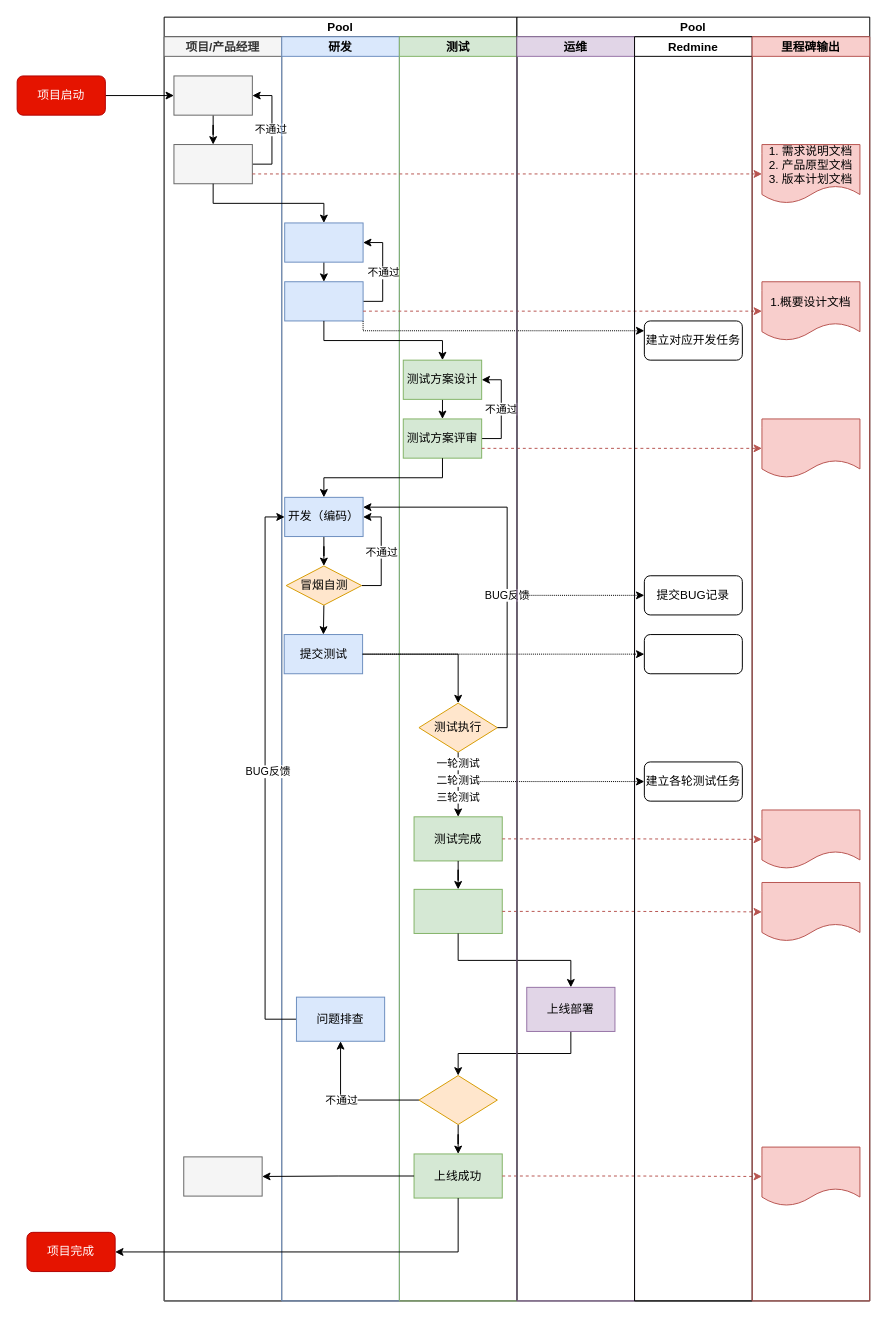
Image size: 887x1318. Some labels were removed from this diagram. Each missing label, with the centre of its shape:
"1. 发布成功邮件 2. 代码tag标记 3. 版本计划文档" goes at (x=810, y=1176).
"1.上线确认单" goes at (x=810, y=911).
"1.测试报告文档" goes at (x=810, y=839).
"1.测试方案文档 2.测试计划文档 3.测试用例文档" goes at (x=810, y=448).
"上线申请评审" goes at (x=457, y=910).
"建立冒烟测试任务" goes at (x=692, y=654).
"开发概要设计" goes at (x=323, y=242).
"概要设计评审" goes at (x=323, y=301).
"线上回归" goes at (x=457, y=1100).
"线上问题收集" goes at (x=222, y=1176).
"需求评审" goes at (x=212, y=164).
"需求调研 原型设计" goes at (x=212, y=95).
